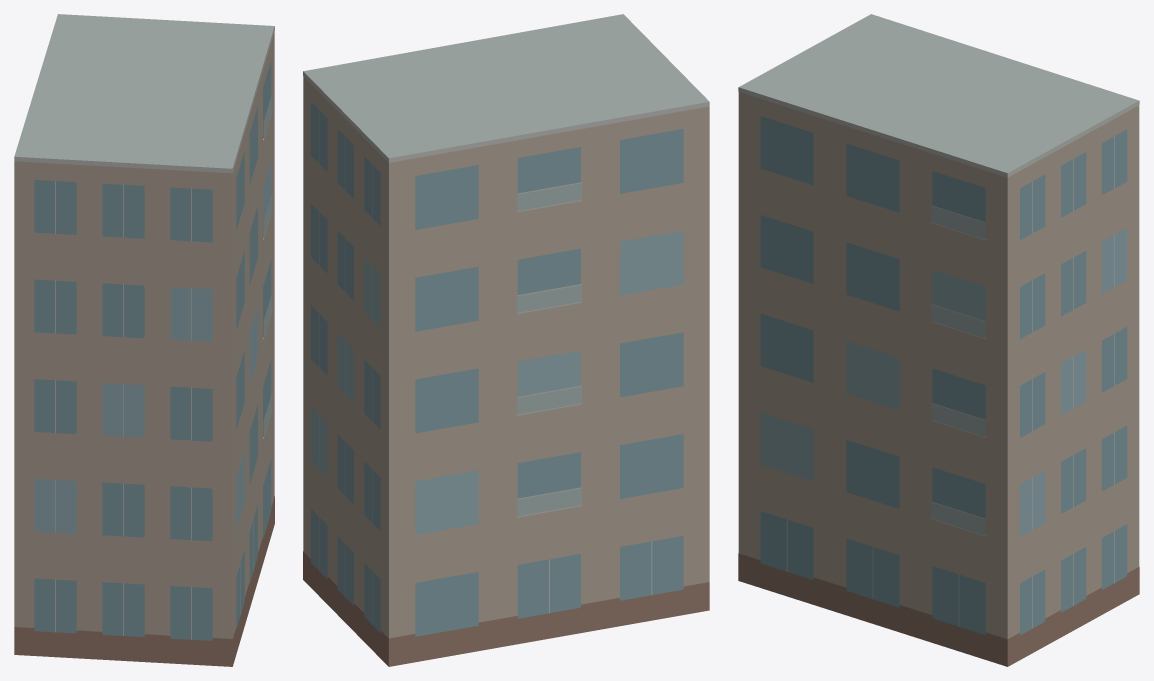
Rendered from survey-upis-32757008.glb.
3 renders of one model, left to right at view 1: azimuth 30°, elevation 25°; view 2: azimuth 150°, elevation 25°; view 3: azimuth 270°, elevation 25°, orthographic. The views are drawn at different scales.
Visible parts, largest first — view 1: survey-upis-32757008.tmp; view 2: survey-upis-32757008.tmp; view 3: survey-upis-32757008.tmp.
Boxes of the visible parts, bbox=[...] form: survey-upis-32757008.tmp: bbox=[14, 14, 274, 666]; survey-upis-32757008.tmp: bbox=[303, 14, 709, 666]; survey-upis-32757008.tmp: bbox=[738, 14, 1139, 666].
Size of the model in its own units: 18.41 by 26.6 by 19.59.
